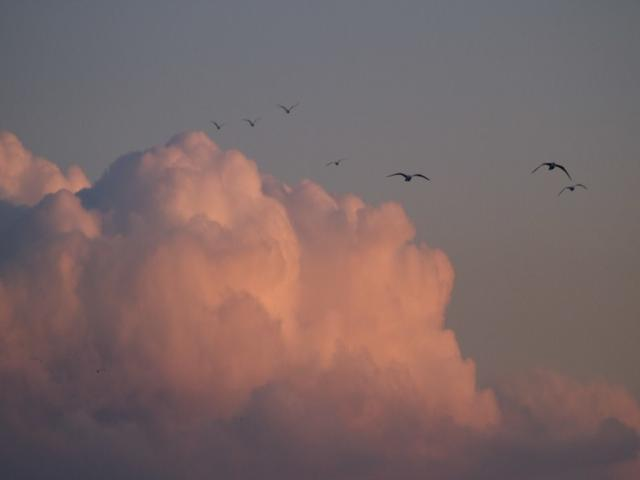Bird: (532, 161, 570, 182), (388, 169, 430, 187), (554, 182, 584, 198), (277, 104, 297, 116), (329, 158, 346, 168), (210, 120, 225, 131), (247, 120, 264, 126)
